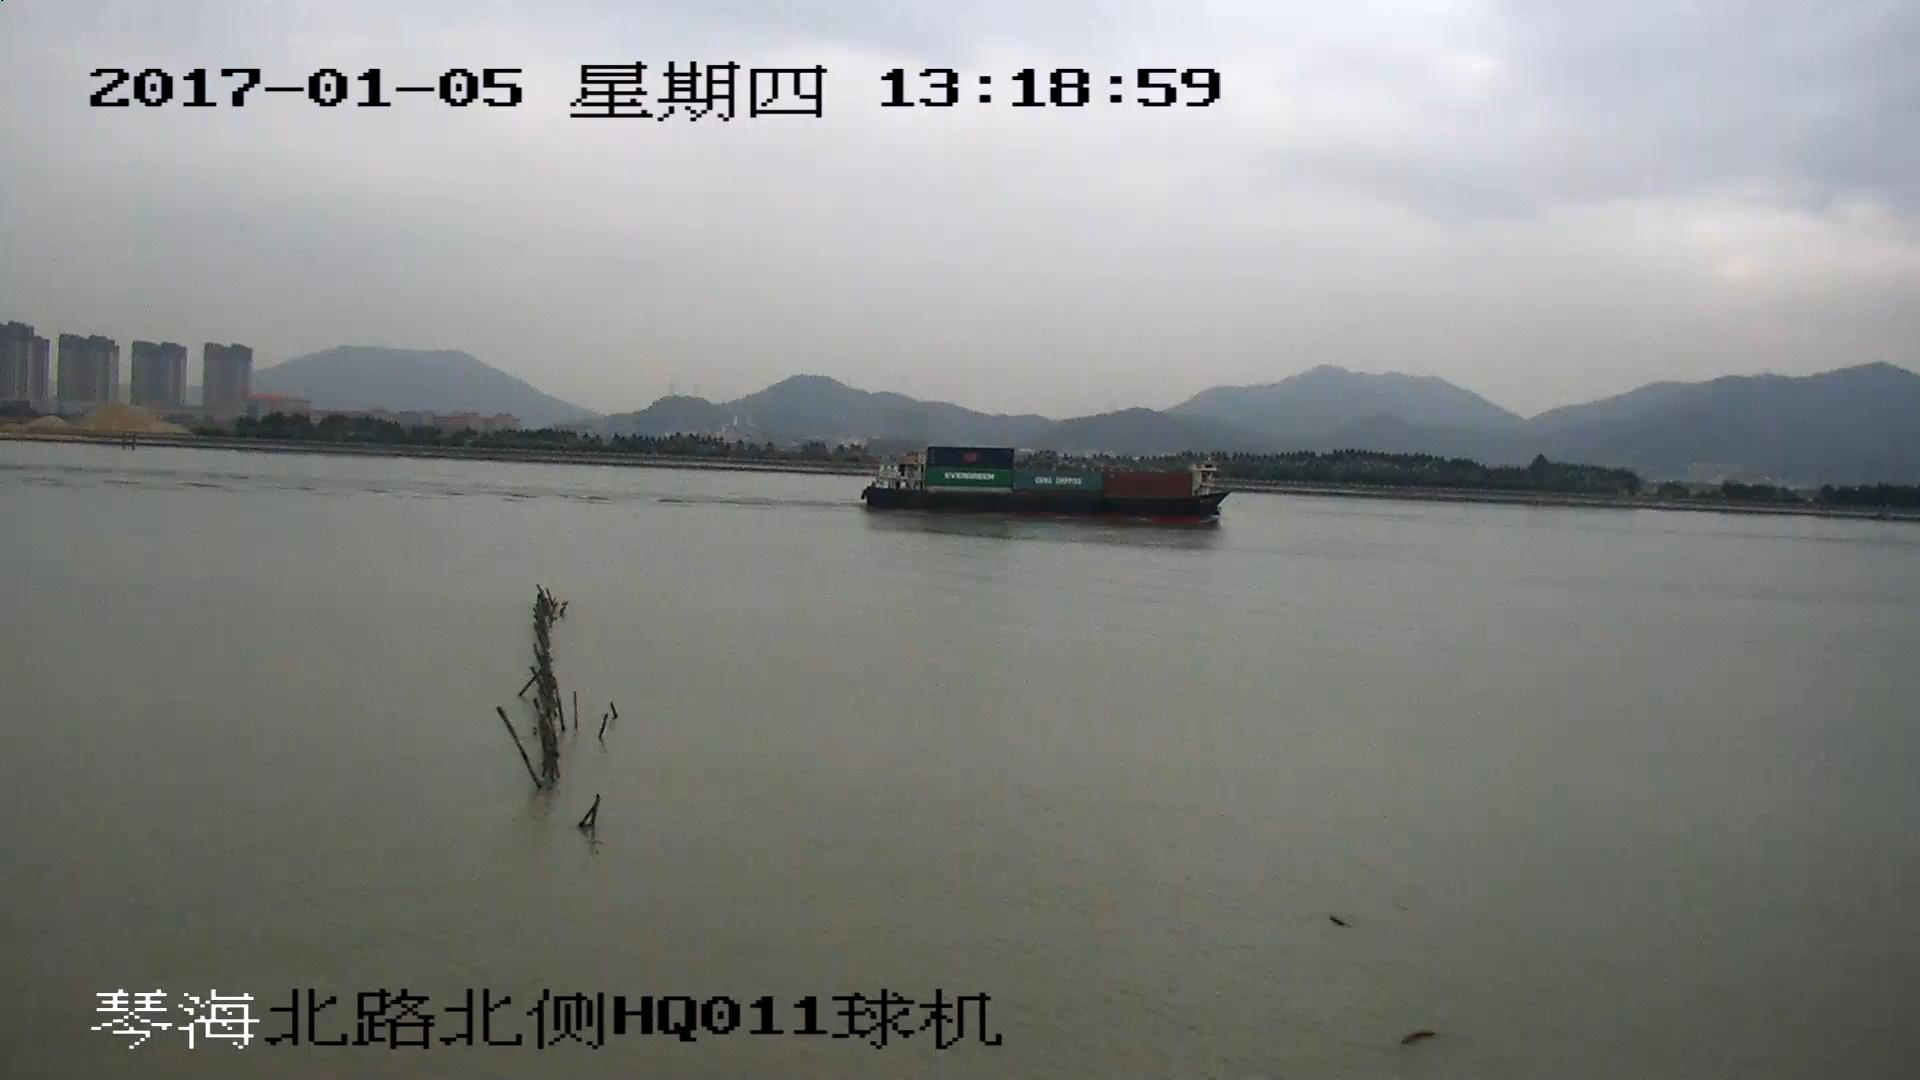container ship: (858, 445, 1233, 521)
